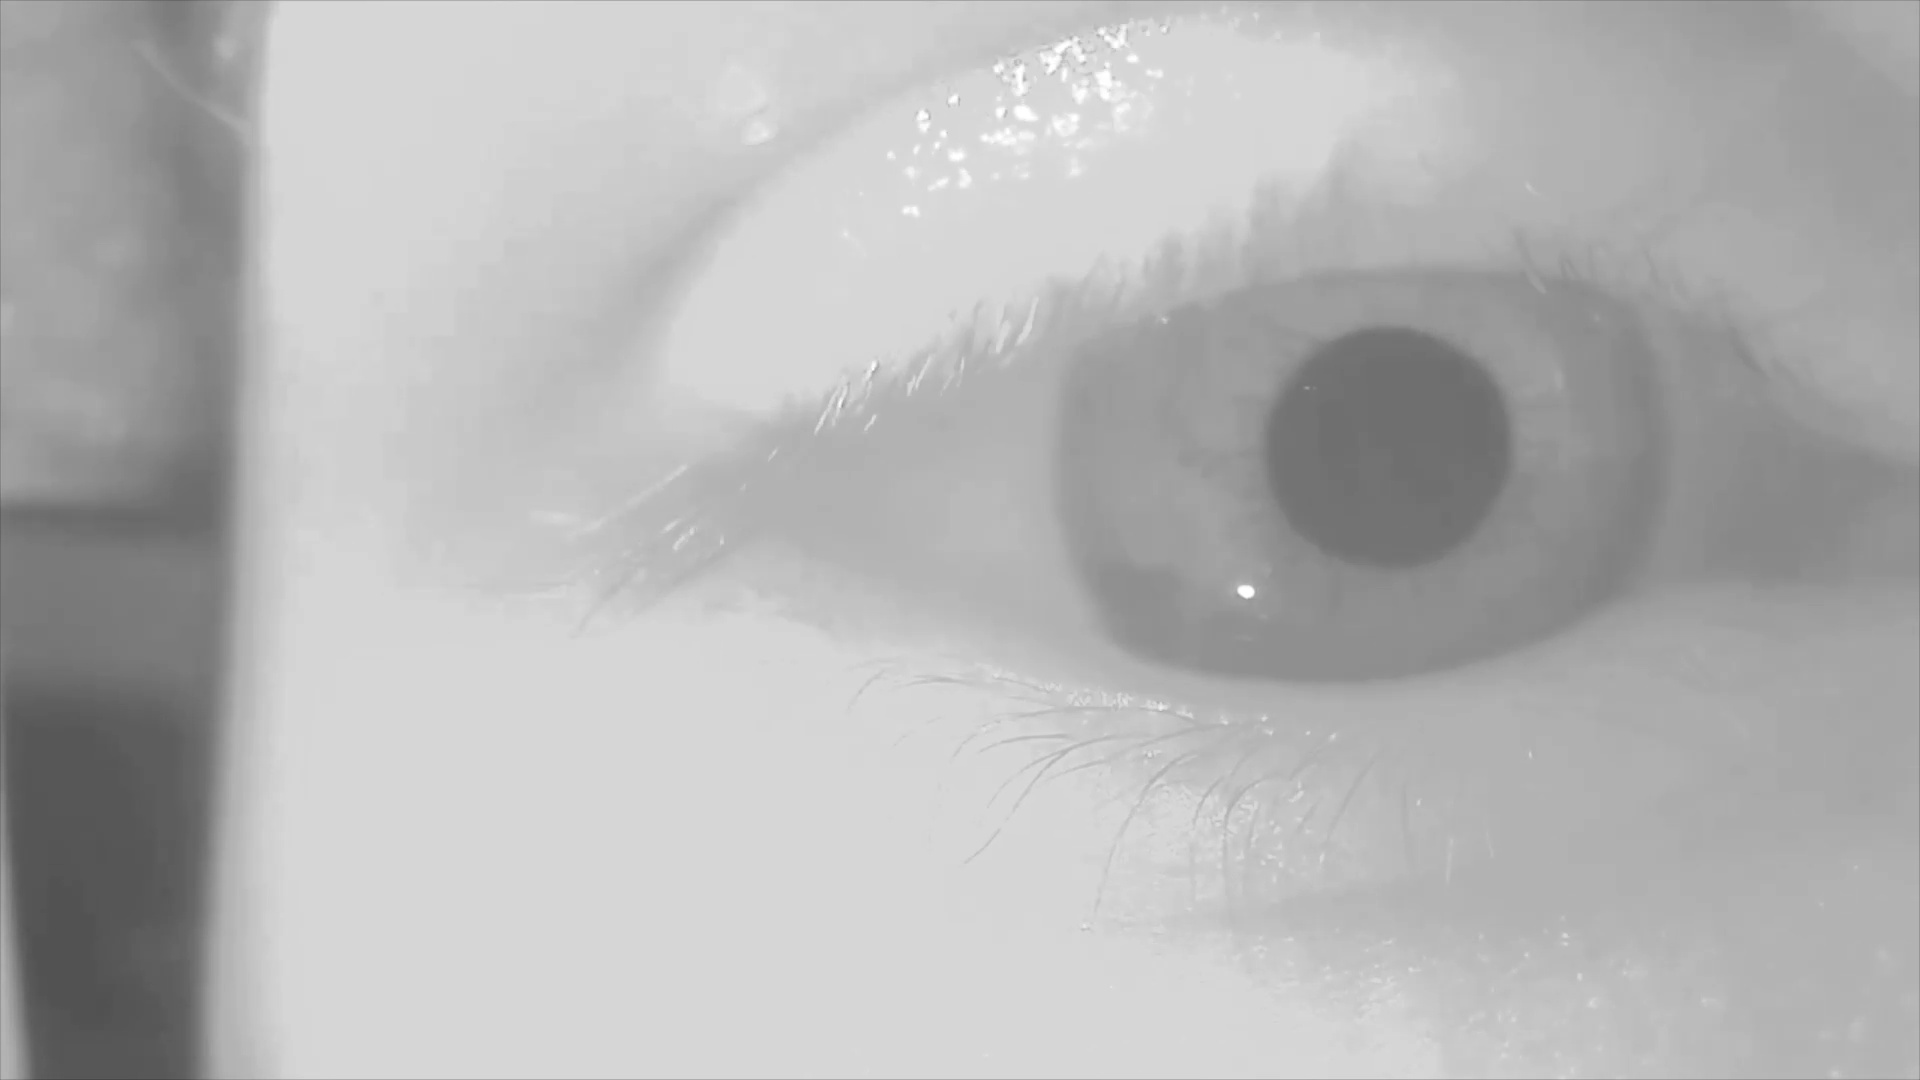pupil: (1260, 326, 1509, 574)
